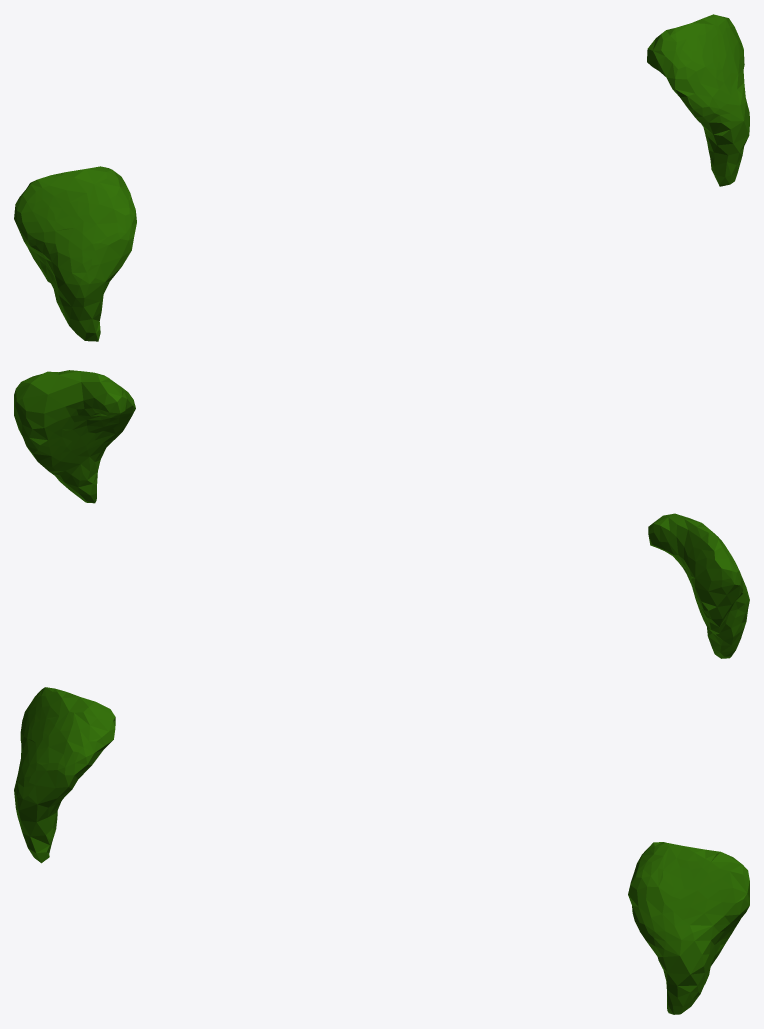
File: 157-Gu-gustatory cortex-('0.2078', '0.4980', '0.0000').obj
The picture shows the model from 3 angles, top to bottom: view 1: azimuth 30°, elevation 25°; view 2: azimuth 150°, elevation 25°; view 3: azimuth 330°, elevation 25°; orthographic projection.
Size of the model in its own units: 283 by 56.85 by 31.98.
